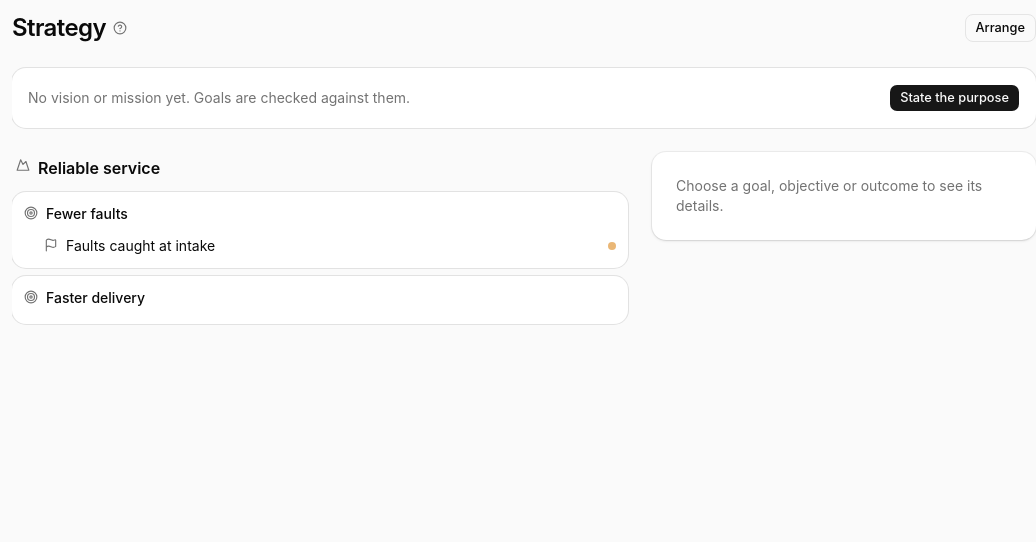
StrategyView › previews one item after another beside the tree on a wide screen
Click the button "Reliable service" at (99, 168), box [12,152,628,184]
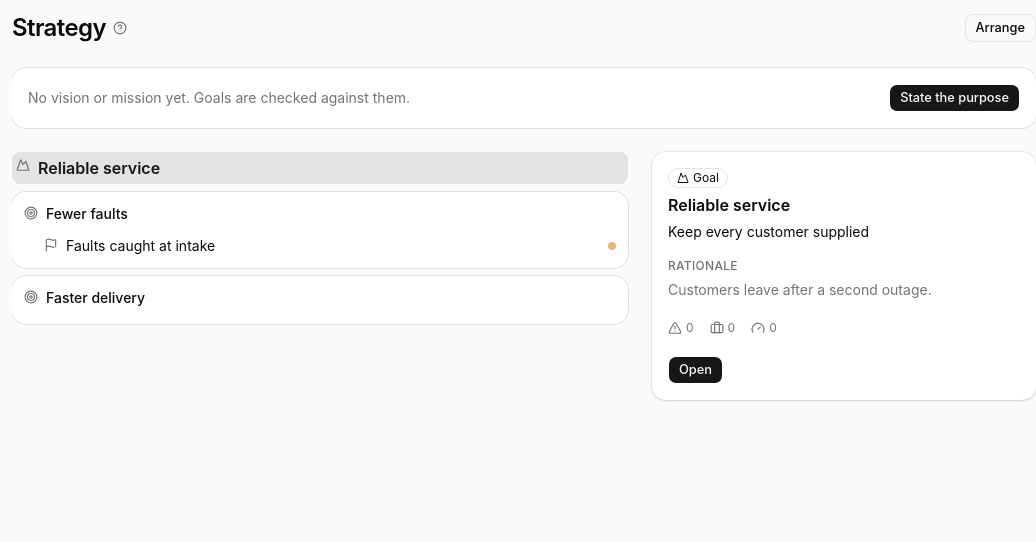
Result: the text "Keep every customer supplied" is shown at [668,223,869,240]
One click to the next: no close in between.
Click the button "Faults caught at intake" at (141, 246), box [20,232,620,260]
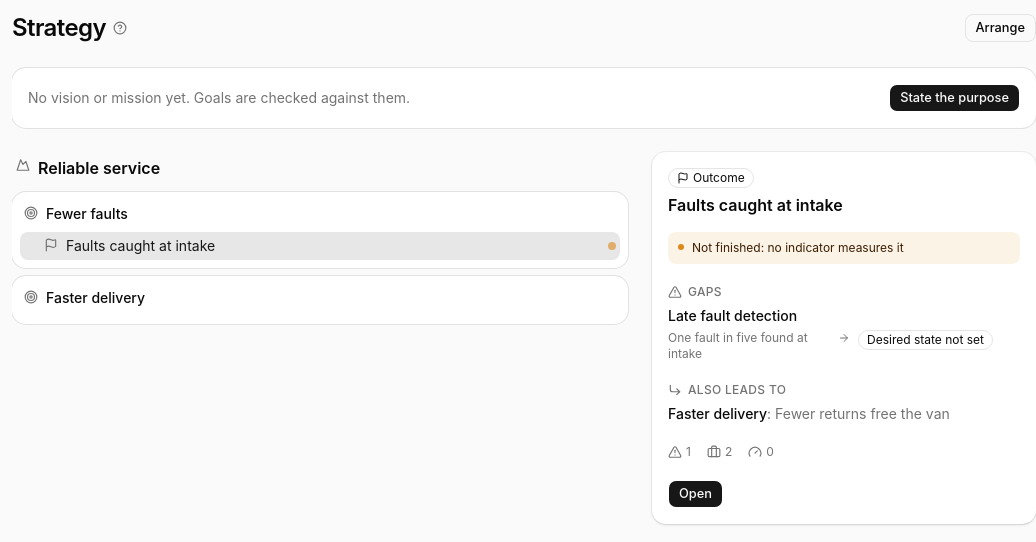
Result: the list named "Gaps" is shown at [668,306,1020,362]
Result: the element named "Work: 2" is shown at [707,444,732,460]
Result: the text "Keep every customer supplied" is gone
